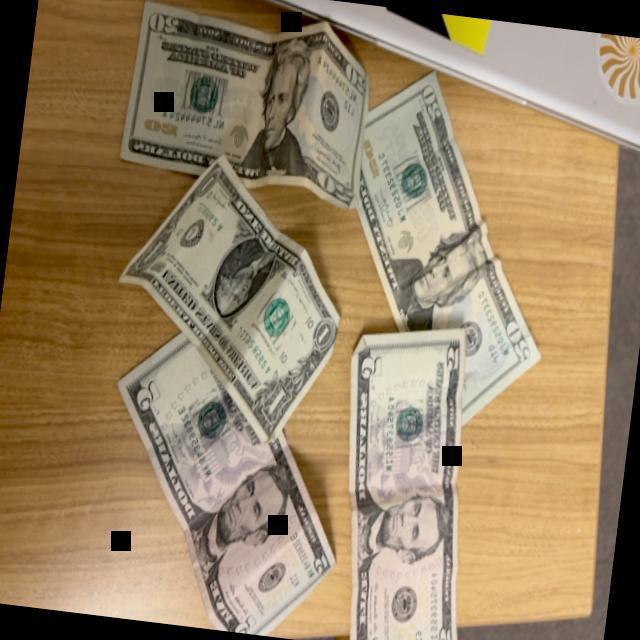five: (86, 322, 360, 640), (315, 313, 498, 640)
one: (100, 142, 356, 448)
twenty: (330, 62, 574, 432), (114, 0, 377, 208)
